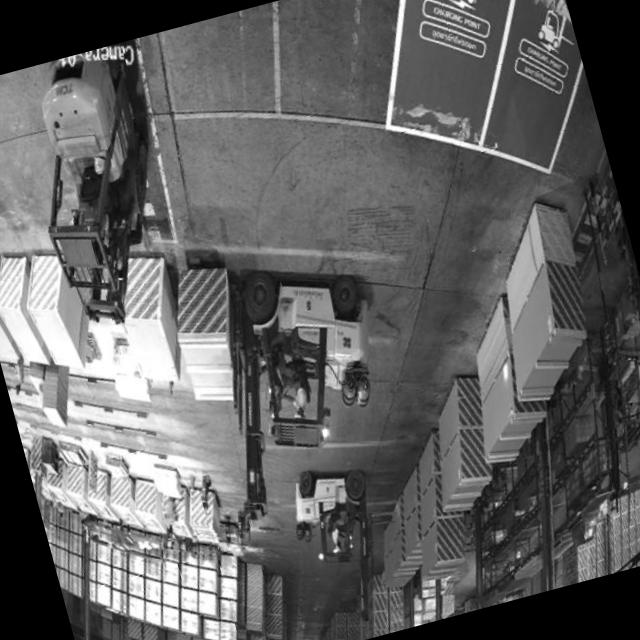driver: (256, 334, 329, 432), (316, 499, 361, 558)
forklift: (0, 34, 223, 353), (189, 226, 420, 487), (270, 447, 396, 586)
person: (154, 492, 186, 538), (4, 353, 34, 399)
